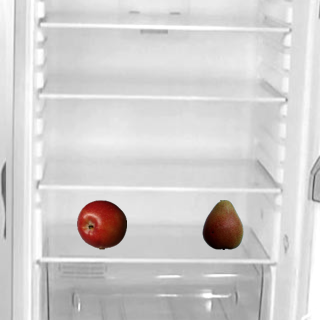Apple Braeburn: (76, 199, 126, 249)
Pear Forelle: (197, 199, 247, 249)
